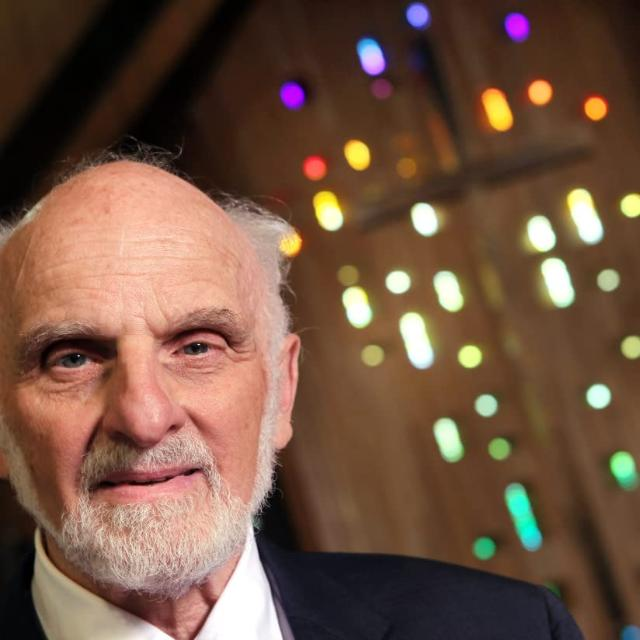crows_feet: (227, 338, 257, 364)
forehead: (128, 228, 188, 256), (100, 264, 158, 286), (173, 269, 223, 293), (38, 250, 78, 276)
frown_line: (139, 309, 161, 345)
gummy_smile: (73, 412, 107, 458), (180, 400, 206, 434)
